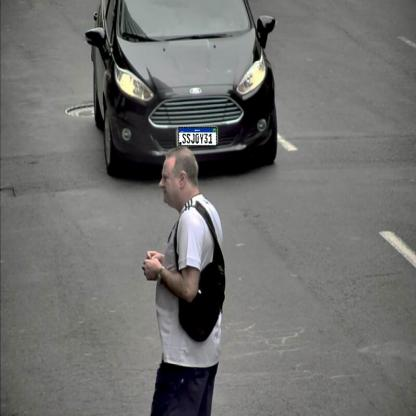PlacaM: (178, 127, 217, 146)
